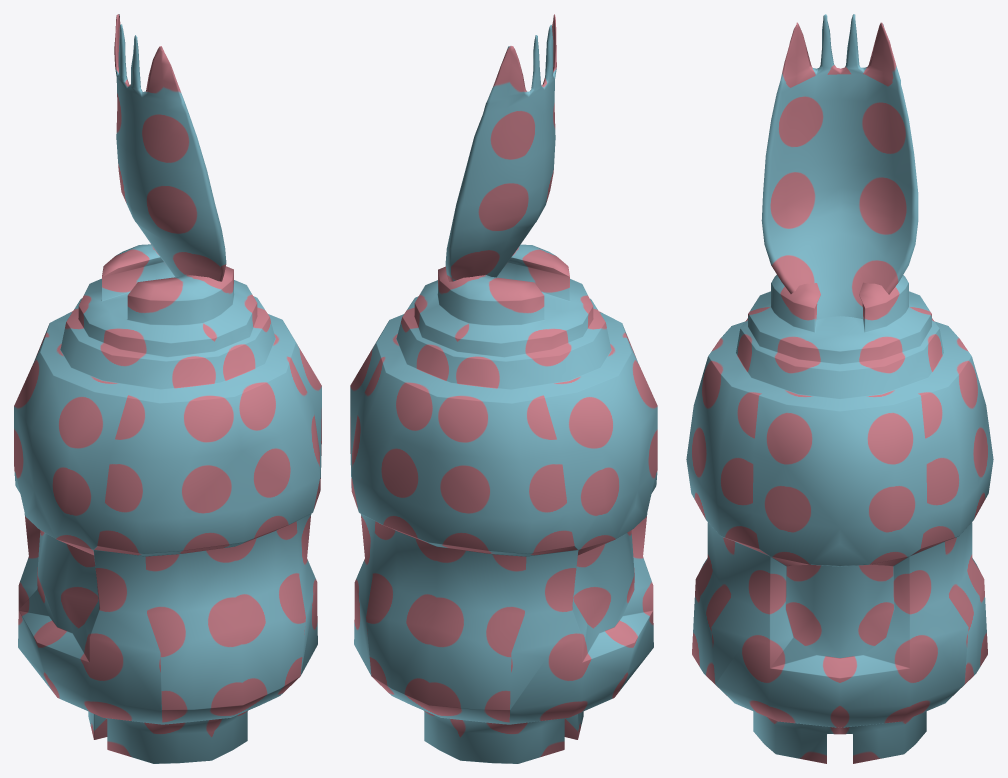
File: spork.glb
The picture shows the model from 3 angles, left to right: view 1: azimuth 30°, elevation 25°; view 2: azimuth 150°, elevation 25°; view 3: azimuth 270°, elevation 25°; orthographic projection.
Visible parts, largest first — view 1: 0.011, tripo_node_23a5fa72-5328-4095-bf2b-181299394f2b; view 2: 0.011, tripo_node_23a5fa72-5328-4095-bf2b-181299394f2b; view 3: 0.011, tripo_node_23a5fa72-5328-4095-bf2b-181299394f2b.
Boxes of the visible parts, left/top/right/bottom form: 0.011: left=14, top=244, right=321, bottom=763; tripo_node_23a5fa72-5328-4095-bf2b-181299394f2b: left=114, top=14, right=226, bottom=281; 0.011: left=350, top=244, right=657, bottom=763; tripo_node_23a5fa72-5328-4095-bf2b-181299394f2b: left=445, top=14, right=556, bottom=281; 0.011: left=686, top=275, right=993, bottom=763; tripo_node_23a5fa72-5328-4095-bf2b-181299394f2b: left=761, top=14, right=918, bottom=319.
Bounding box in the file's own units: 0.7024 × 1.74 × 0.6951.
1 material, 1 textured.
